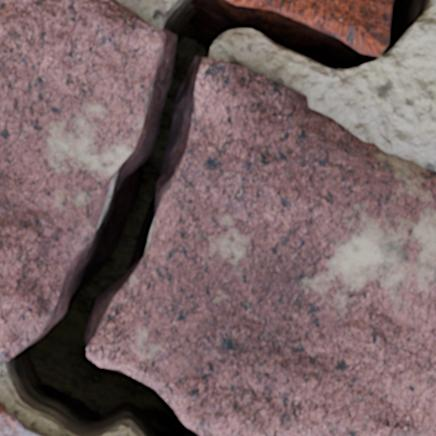brick: (229, 0, 391, 55), (0, 404, 46, 435)
broken_brick: (88, 58, 435, 435), (0, 0, 164, 359)
crack: (0, 0, 434, 435)
